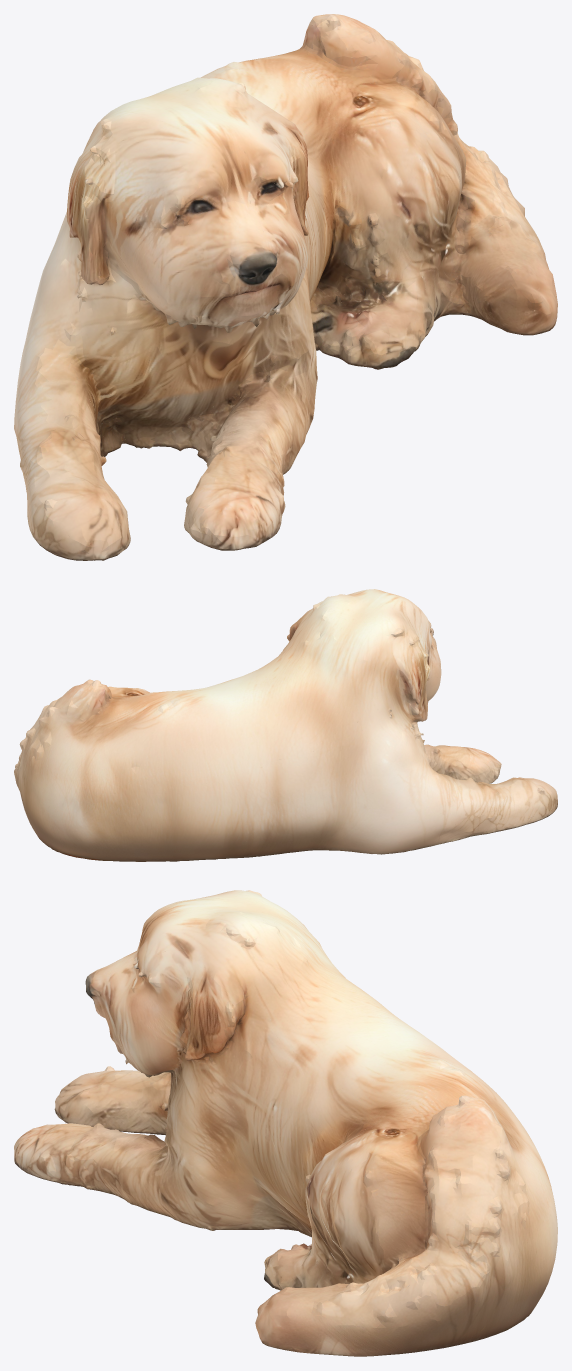
The model's file is dog2.glb.
The picture shows the model from 3 angles, top to bottom: view 1: azimuth 30°, elevation 25°; view 2: azimuth 150°, elevation 25°; view 3: azimuth 270°, elevation 25°; orthographic projection. The views are drawn at different scales.
Visible parts, largest first — view 1: Mesh; view 2: Mesh; view 3: Mesh.
Part boxes in pixels (x1=…): Mesh: x1=14, y1=14, x2=557, y2=560; Mesh: x1=14, y1=589, x2=557, y2=861; Mesh: x1=14, y1=890, x2=557, y2=1356.
Size of the model in its own units: 1.91 by 0.9546 by 1.65.
1 material, 1 textured.
